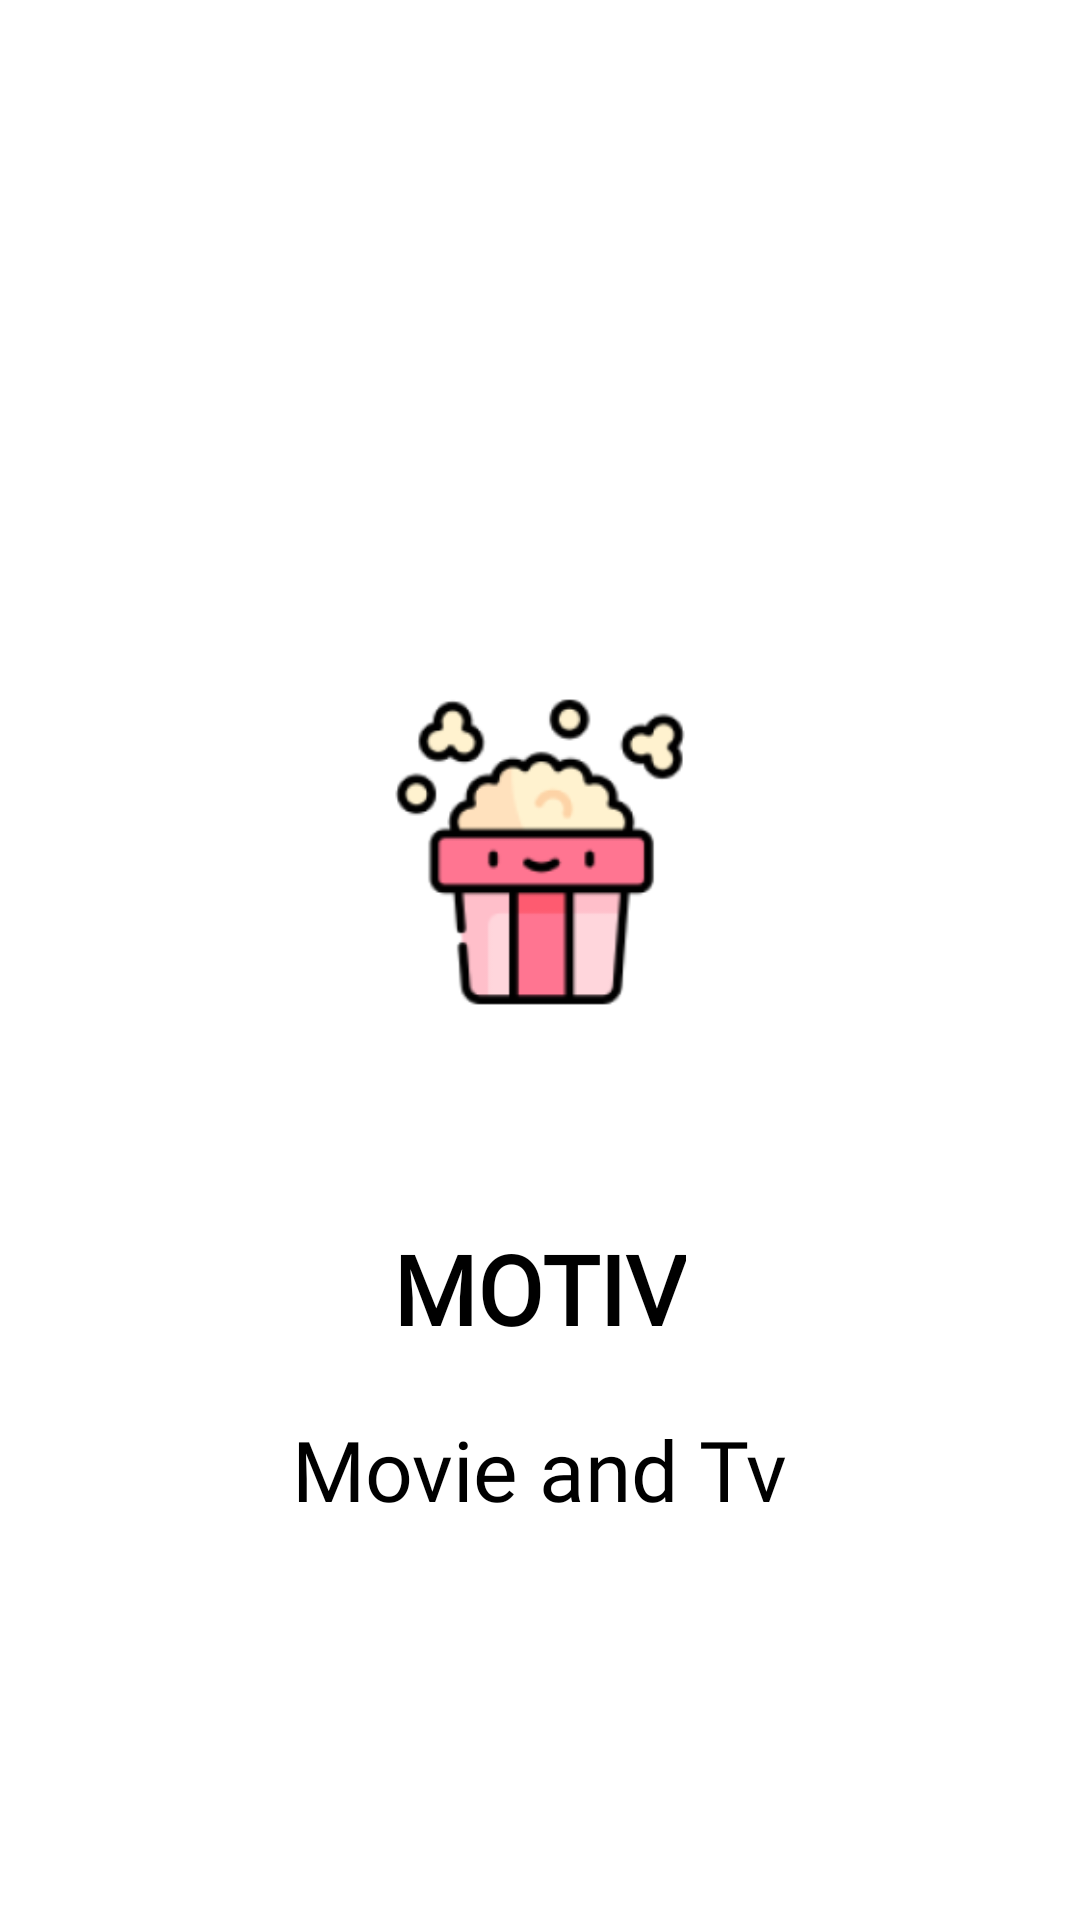

Icons on this 1080w x 1920h Android screen, each with the point to tap as [x,y]:
pop: [540,852]
